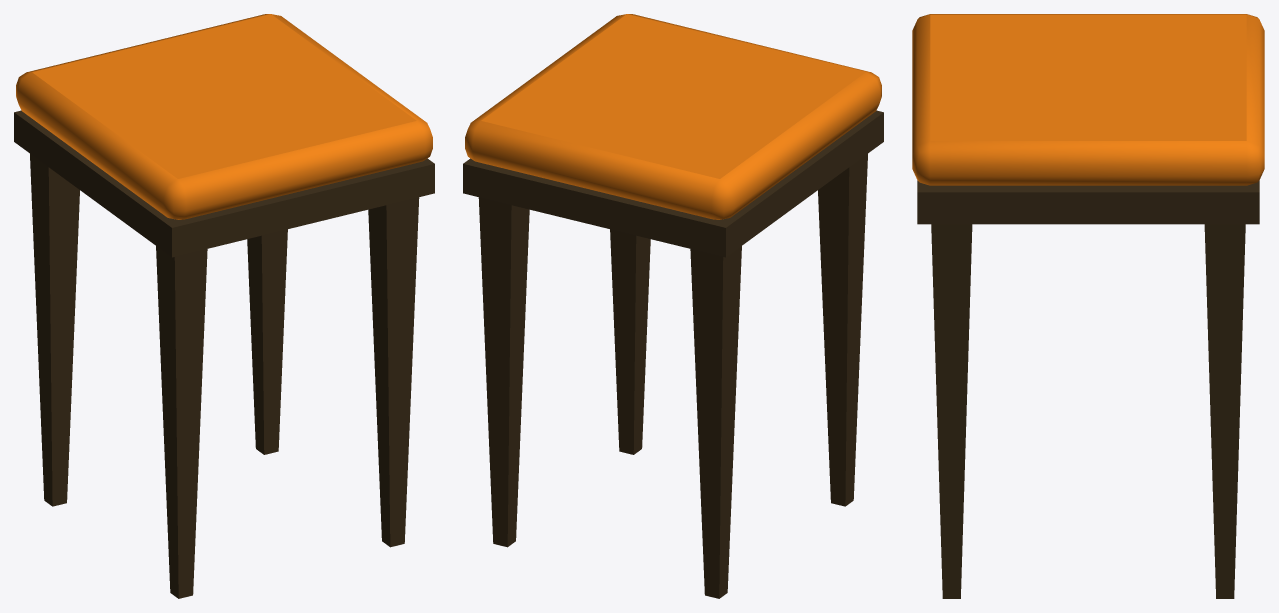
The model's file is Stool_B.fbx.
The picture shows the model from 3 angles, left to right: view 1: azimuth 30°, elevation 25°; view 2: azimuth 150°, elevation 25°; view 3: azimuth 270°, elevation 25°; orthographic projection. The views are drawn at different scales.
Visible parts, largest first — view 1: Stool B; view 2: Stool B; view 3: Stool B.
Boxes of the visible parts, x1=… form: Stool B: x1=14, y1=14, x2=434, y2=598; Stool B: x1=463, y1=14, x2=883, y2=598; Stool B: x1=912, y1=14, x2=1264, y2=598.
Size of the model in its own units: 47.69 by 72.44 by 50.16.
